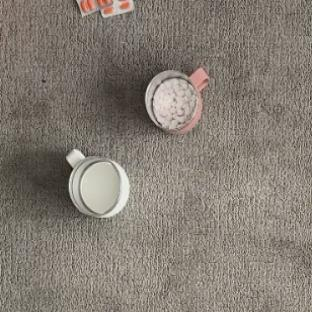IBC: (65, 148, 131, 220), (144, 68, 209, 137)
